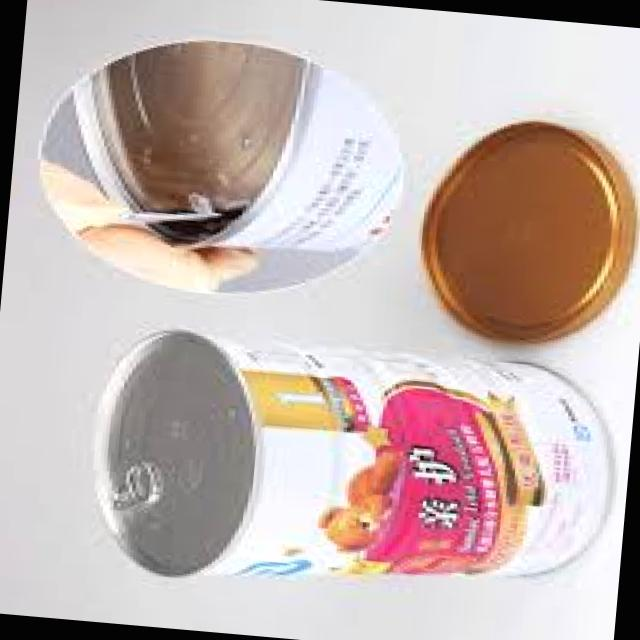metal: (74, 41, 404, 251), (422, 121, 637, 342), (94, 330, 257, 575)
